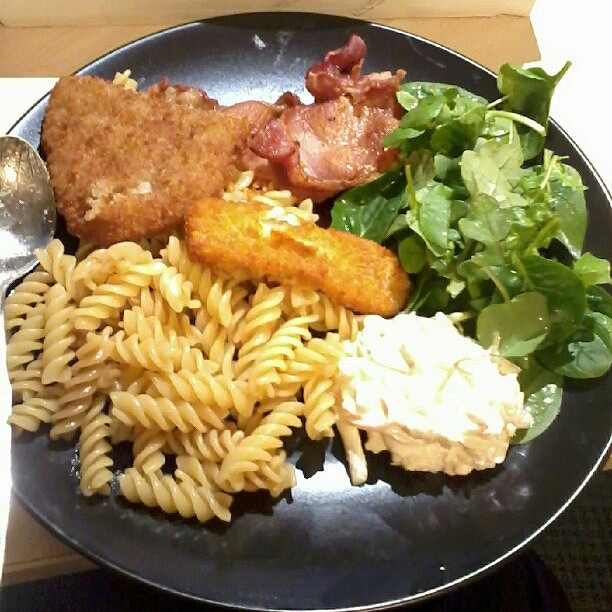chopped lettuce: (399, 100, 605, 345)
plain spaghetti: (7, 258, 329, 506)
